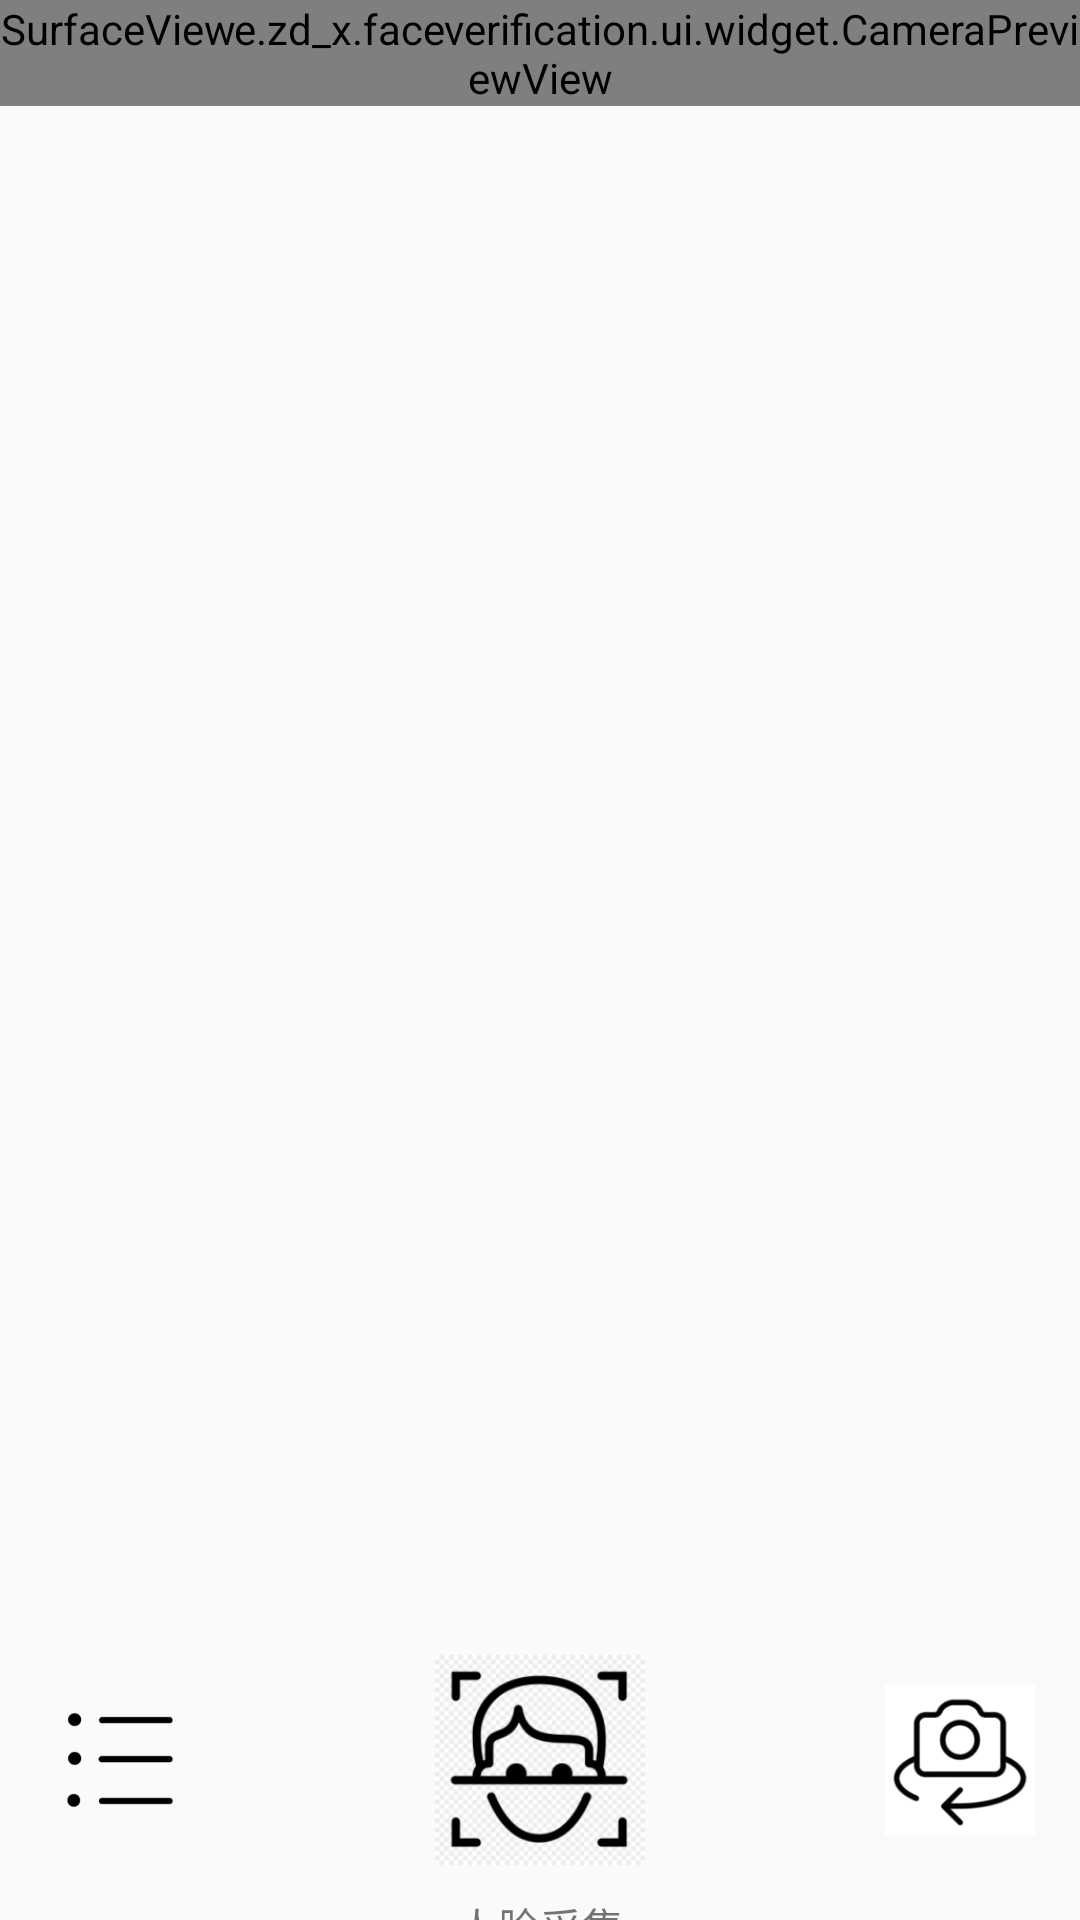

Icons on this 1080×1920 Android screen, each with its box as [x1,y1,x2,y2]:
recog middle: [450,1670,629,1848]
